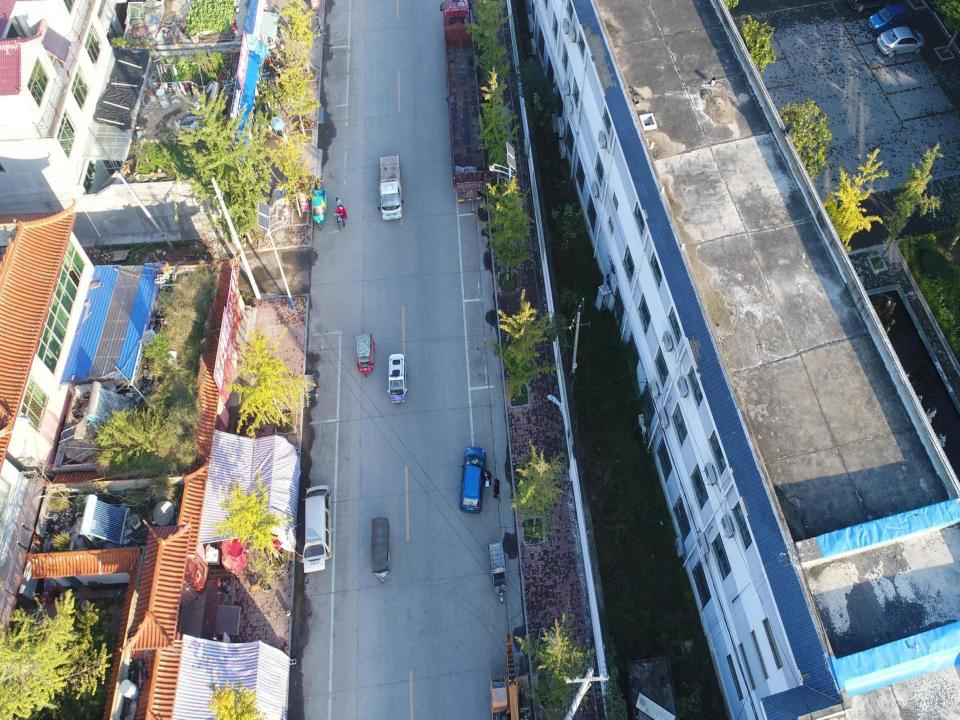car: (458, 446, 487, 514)
truck: (438, 0, 490, 206), (377, 153, 404, 222)
van: (300, 483, 336, 571)
